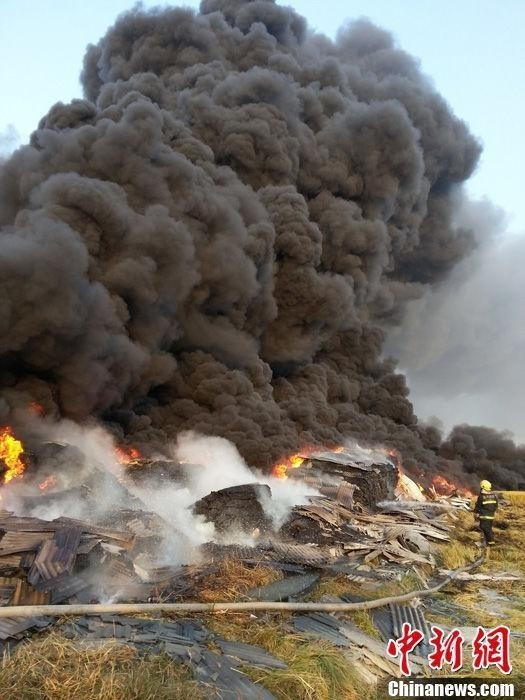fire: (0, 429, 25, 484), (272, 447, 310, 476), (113, 444, 140, 465)
